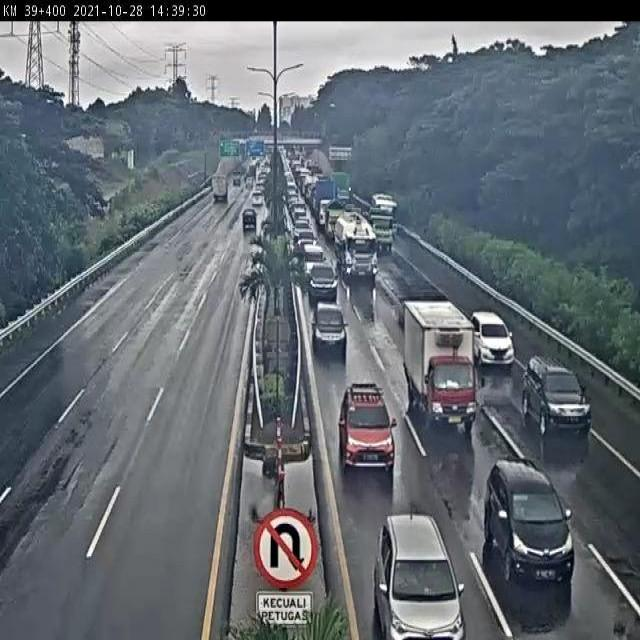big truck: (336, 208, 378, 283), (375, 213, 396, 255)
car: (376, 496, 464, 640), (478, 435, 563, 561), (334, 364, 394, 453), (503, 346, 567, 422), (465, 304, 509, 352), (313, 300, 351, 341), (308, 260, 334, 288), (238, 212, 260, 244)
small truck: (402, 291, 471, 409), (211, 170, 230, 202)
